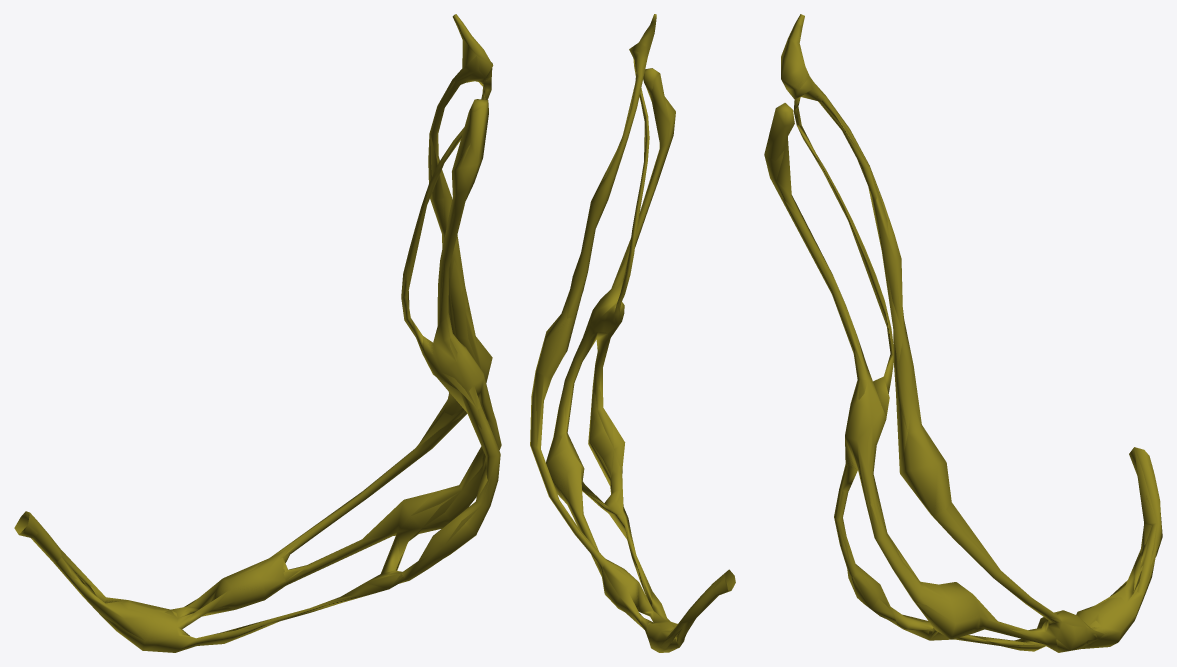
File: L lymphocentrum cervicale profundum.fbx
The picture shows the model from 3 angles, left to right: view 1: azimuth 30°, elevation 25°; view 2: azimuth 150°, elevation 25°; view 3: azimuth 270°, elevation 25°; orthographic projection. The views are drawn at different scales.
Visible parts, largest first — view 1: L lymphocentrum cervicale profundum, L lymphocentrum cervicale profundum low; view 2: L lymphocentrum cervicale profundum, L lymphocentrum cervicale profundum low; view 3: L lymphocentrum cervicale profundum, L lymphocentrum cervicale profundum low.
Boxes of the visible parts, bbox=[...] form: L lymphocentrum cervicale profundum: bbox=[14, 14, 501, 652]; L lymphocentrum cervicale profundum low: bbox=[14, 40, 500, 648]; L lymphocentrum cervicale profundum: bbox=[530, 14, 735, 652]; L lymphocentrum cervicale profundum low: bbox=[536, 30, 734, 651]; L lymphocentrum cervicale profundum: bbox=[764, 14, 1162, 652]; L lymphocentrum cervicale profundum low: bbox=[764, 16, 1159, 652].
Bounding box in the file's own units: 7.12 × 13.13 × 6.66.
